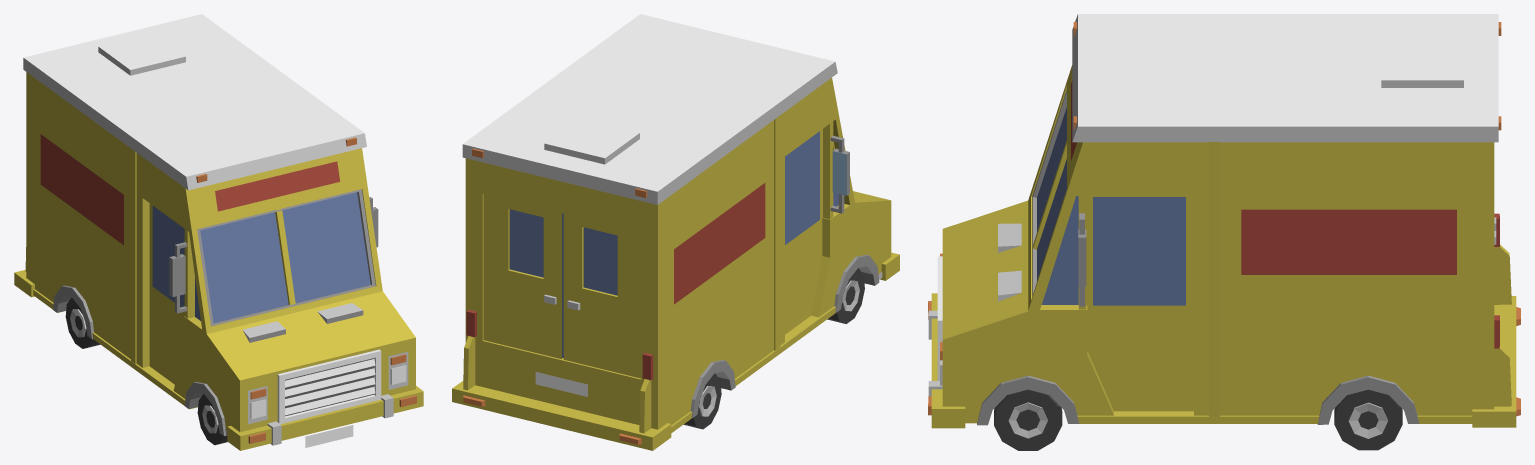
The model's file is transport_bus_004.glb.
3 views of the same model, side by side, from view 1: azimuth 30°, elevation 25°; view 2: azimuth 150°, elevation 25°; view 3: azimuth 270°, elevation 25° (orthographic). The views are drawn at different scales.
Parts seen in each view (by area): view 1: transport_bus_004; view 2: transport_bus_004; view 3: transport_bus_004.
Boxes of the visible parts, <box> form: transport_bus_004: <box>14,14,423,450</box>; transport_bus_004: <box>452,14,899,450</box>; transport_bus_004: <box>928,14,1520,450</box>.
Bounding box in the file's own units: 2.02 × 2.43 × 3.9.
1 material, 1 textured.
